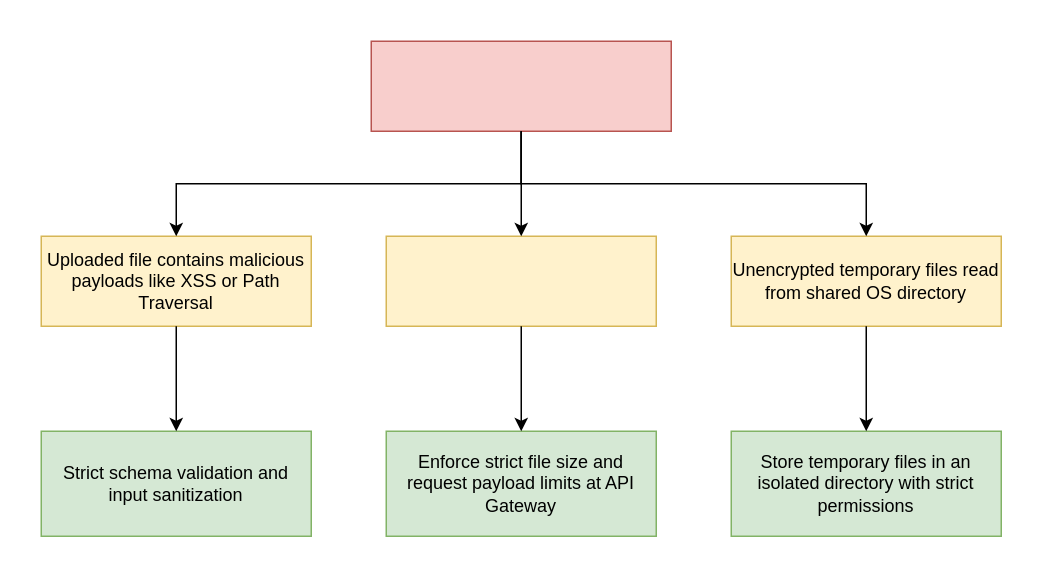
Some shapes in this 1043 by 578 pixel diagram are drawn without their labels. Each missing label, with the centre of its shape:
"Attacker uploads massive files to exhaust memory" belongs at point 520,280.
"Import Vault Process is Compromised" belongs at point 520,85.
